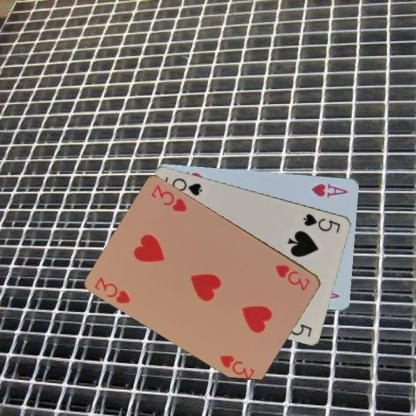3h: (92, 275, 132, 305), (273, 262, 312, 292)
5s: (300, 211, 342, 234)
Ah: (309, 181, 350, 199)
